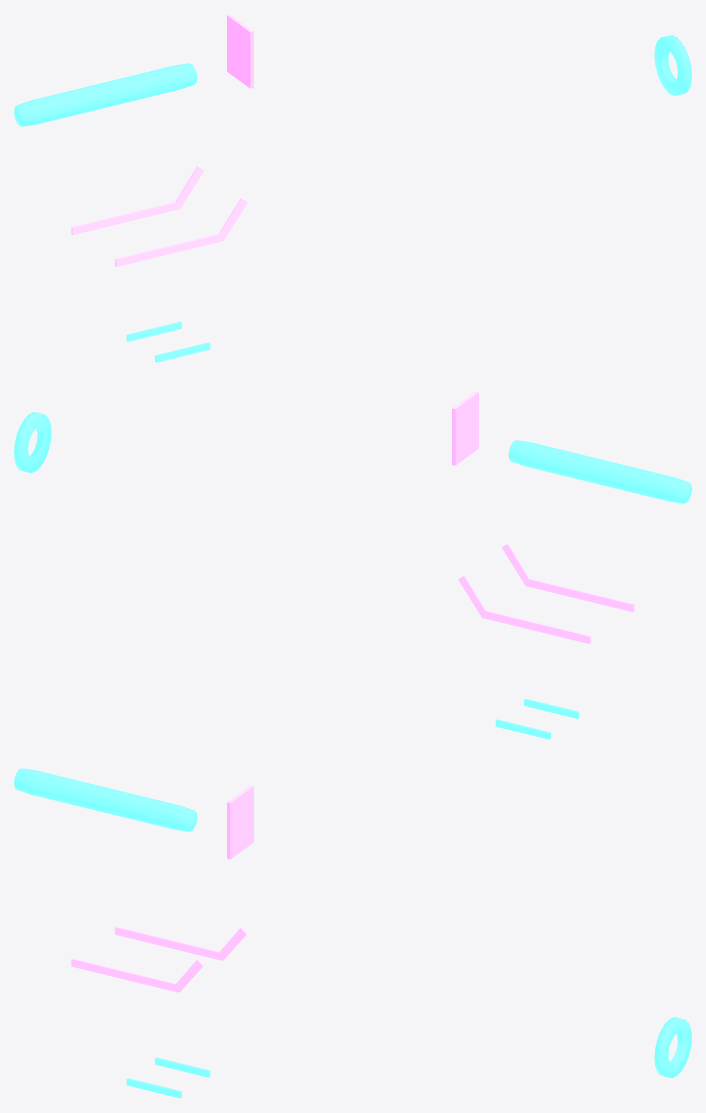
File: blaster_neon.fbx
The picture shows the model from 3 angles, top to bottom: view 1: azimuth 30°, elevation 25°; view 2: azimuth 150°, elevation 25°; view 3: azimuth 330°, elevation 25°; orthographic projection.
Visible parts, largest first — view 1: BL_Neon_Game; view 2: BL_Neon_Game; view 3: BL_Neon_Game.
Boxes of the visible parts, bbox=[...] form: BL_Neon_Game: bbox=[14, 14, 691, 362]; BL_Neon_Game: bbox=[14, 391, 691, 739]; BL_Neon_Game: bbox=[14, 768, 691, 1098].
Size of the model in its own units: 55.2 by 24.3 by 6.5.
